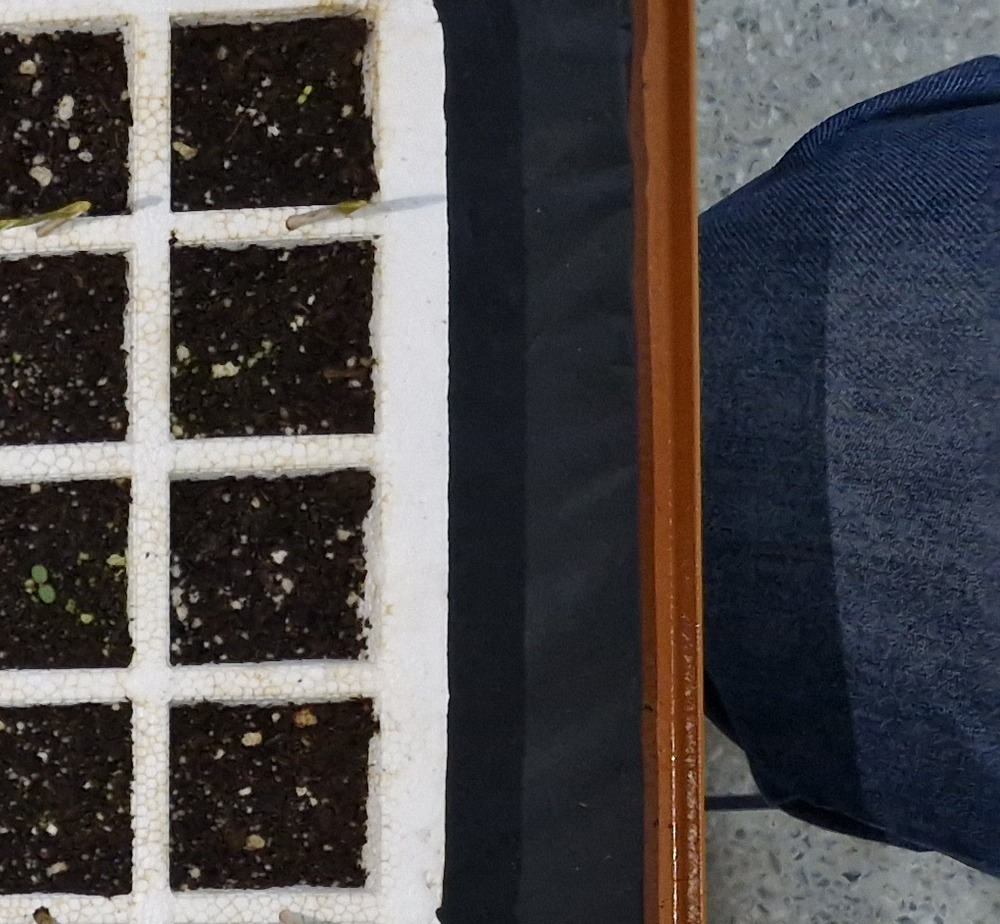Folha: (39, 585, 55, 603), (31, 565, 47, 583), (297, 94, 307, 105)
Germinacao: (31, 565, 56, 603), (297, 85, 313, 104)
